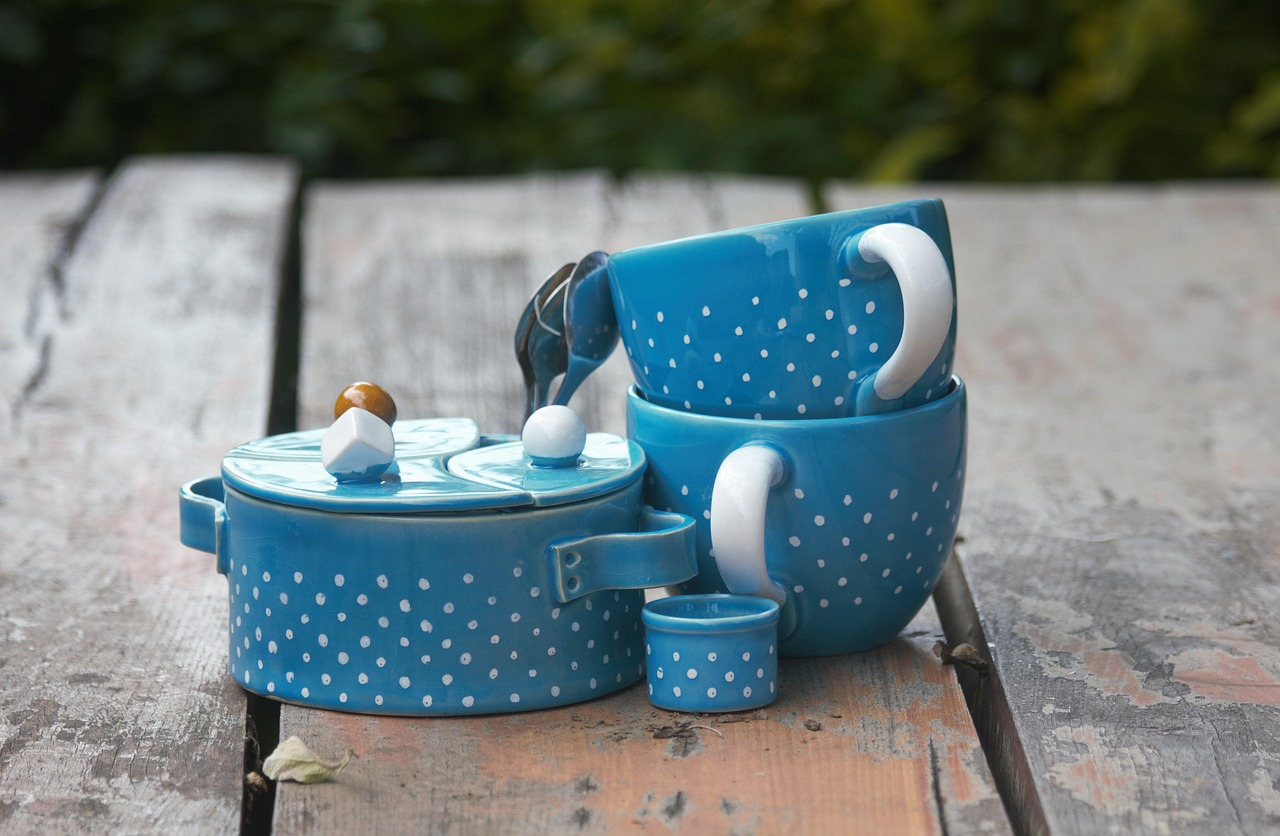mug: (480, 367, 1038, 709), (623, 175, 1000, 433)
